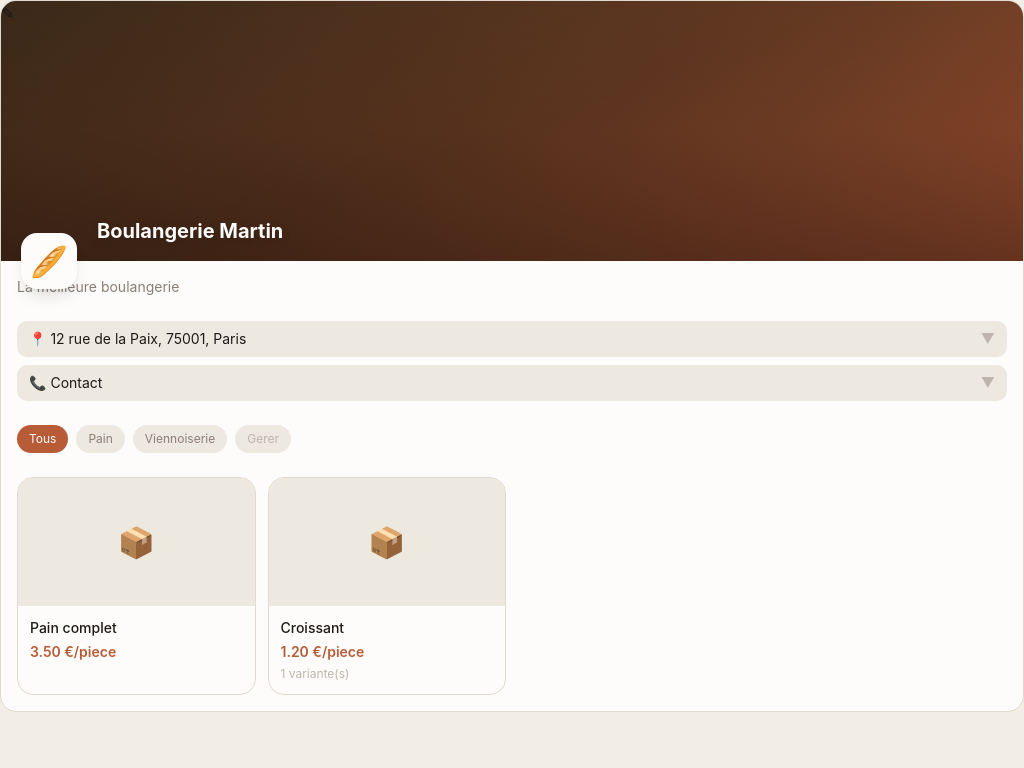
VitrinePreview › filters by category
This screenshot has width=1024, height=768.
What coordinates should you click on to do the following:
click the button "Pain"
I would click on:
 (101, 439)
Its box is [76,425,125,453].
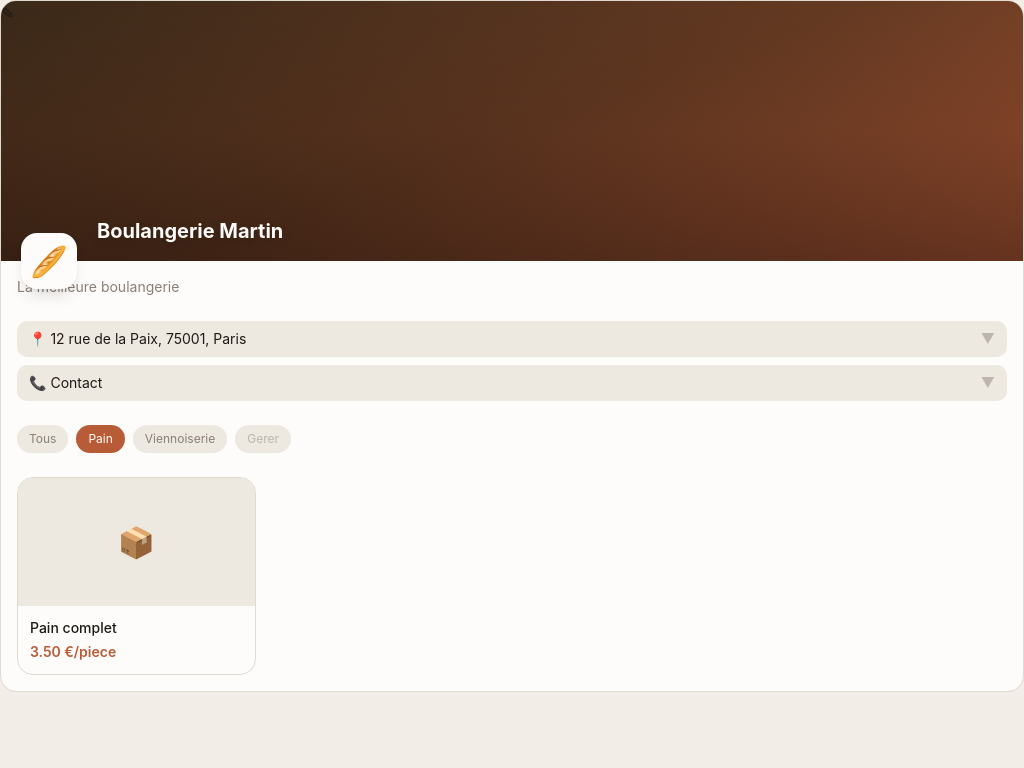
Check: the text "Pain complet" is shown, box [30,619,117,636]
Check: the text "Croissant" is gone
